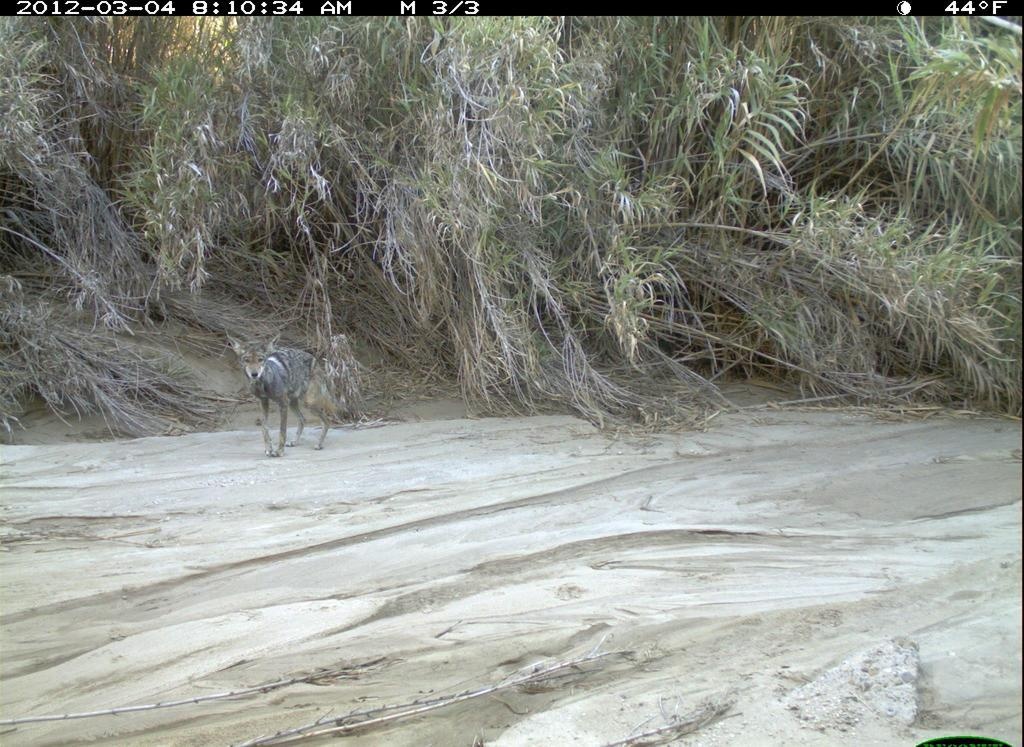coyote: (219, 319, 347, 467)
